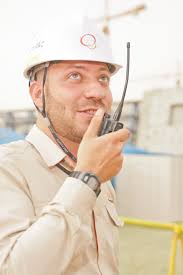Person_wearing_helmet: (23, 11, 126, 92)
